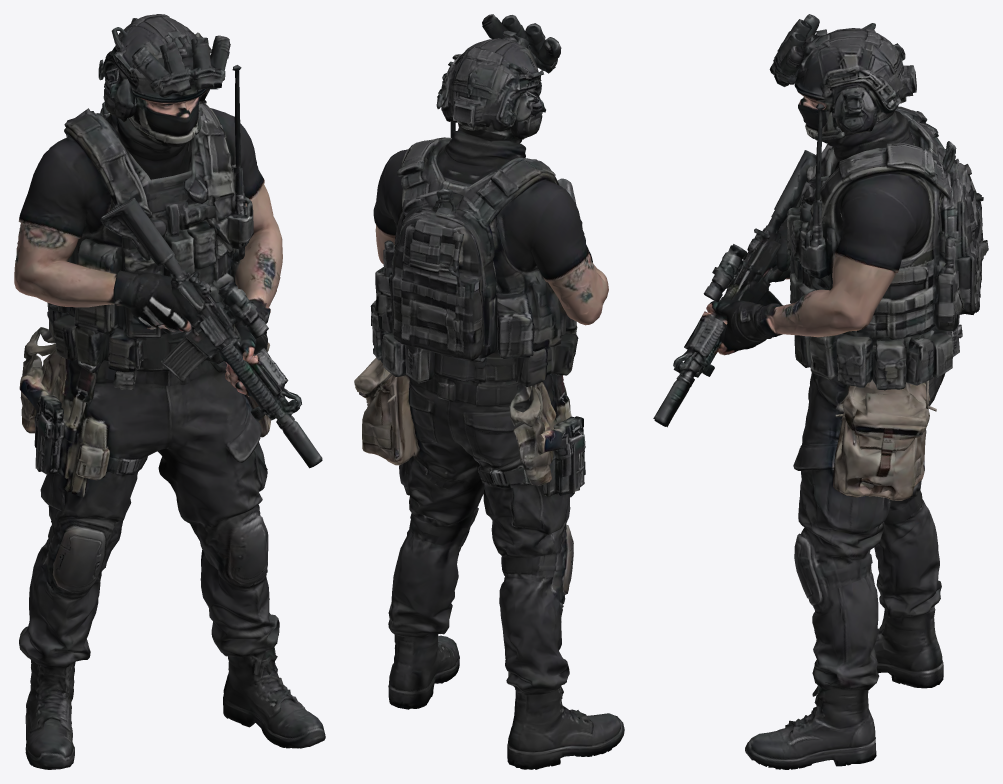
File: black-division.glb
3 renders of one model, left to right at view 1: azimuth 30°, elevation 25°; view 2: azimuth 150°, elevation 25°; view 3: azimuth 270°, elevation 25°, orthographic. The views are drawn at different scales.
Parts seen in each view (by area): view 1: tripo_node_5d3bcb64-4b0d-421c-98f5-41a8bd152e43; view 2: tripo_node_5d3bcb64-4b0d-421c-98f5-41a8bd152e43; view 3: tripo_node_5d3bcb64-4b0d-421c-98f5-41a8bd152e43.
Part boxes in pixels (<box>): tripo_node_5d3bcb64-4b0d-421c-98f5-41a8bd152e43: <box>14,14,325,769</box>; tripo_node_5d3bcb64-4b0d-421c-98f5-41a8bd152e43: <box>354,14,624,769</box>; tripo_node_5d3bcb64-4b0d-421c-98f5-41a8bd152e43: <box>653,14,988,769</box>.
Bounding box in the file's own units: 0.3501 × 0.9691 × 0.4286.
Materials: 1 (1 with a texture image).
